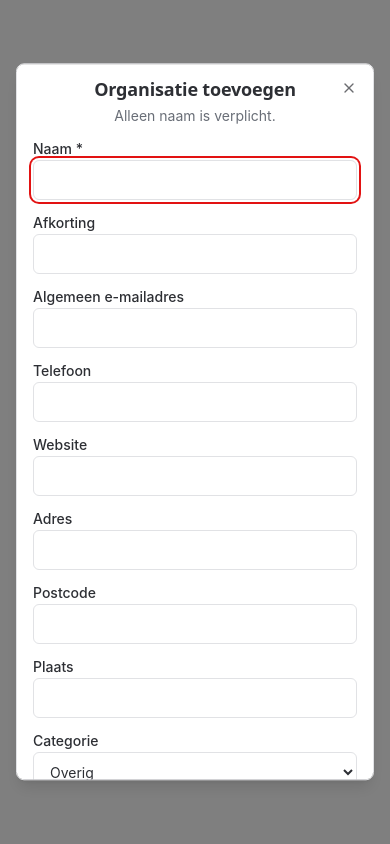
Test: address book rules › submits only after saving; leaves errors and form open when persistence fails
In the field labelled "Naam *": (195, 180) [33,160,357,200], type " SYNTHETISCH Test "
(page scrolled)
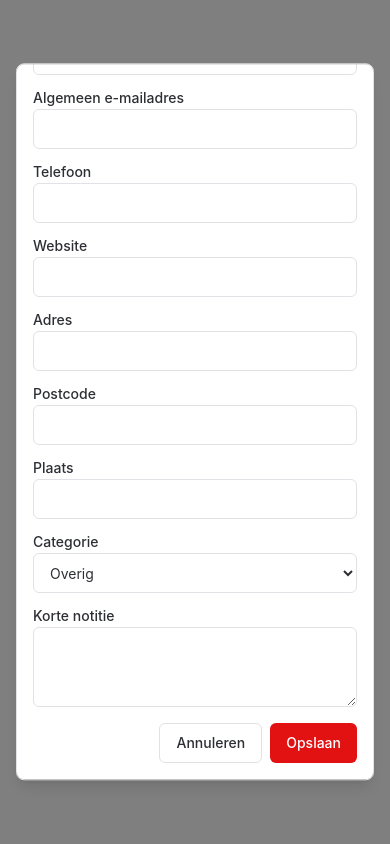
Click the button "Opslaan": (314, 743) [270,723,357,763]
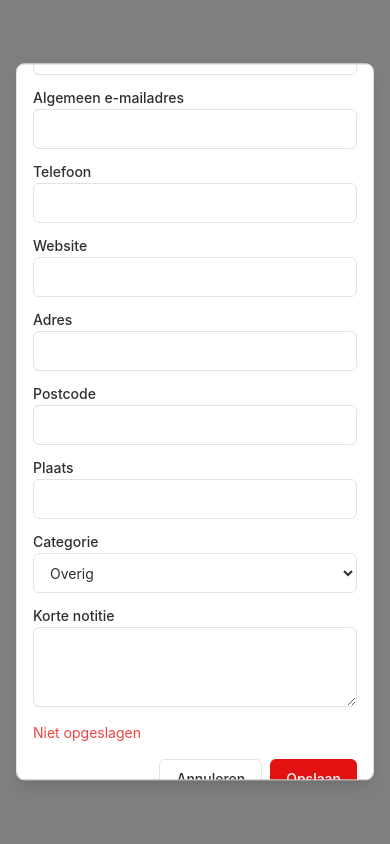
Now the message "Niet opgeslagen" is shown, box [33,724,141,741]
